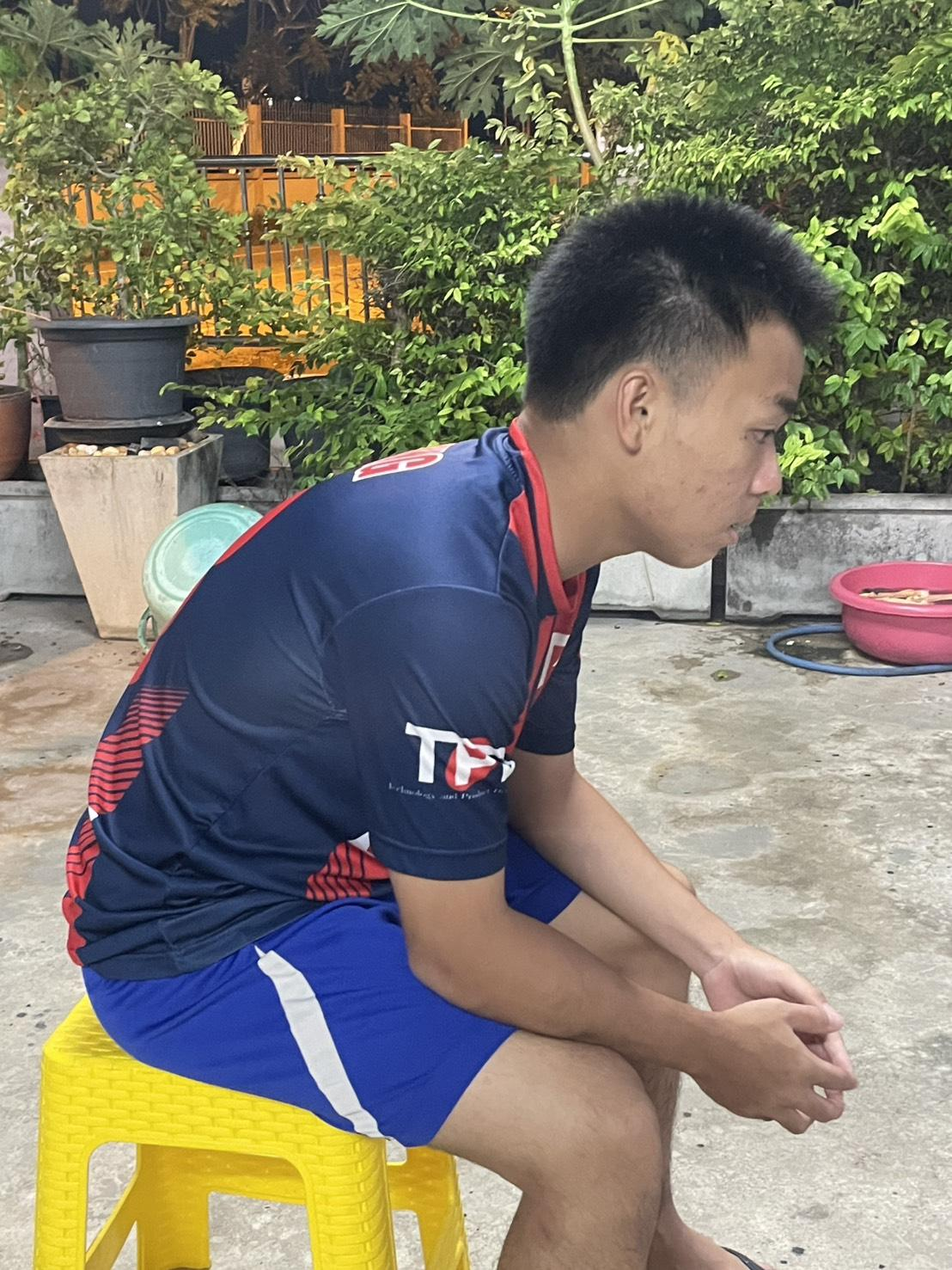BadPosture: (64, 196, 855, 1193)
